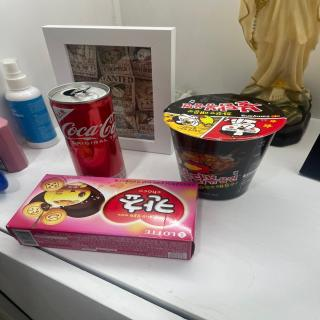cocacola: (47, 82, 131, 178)
